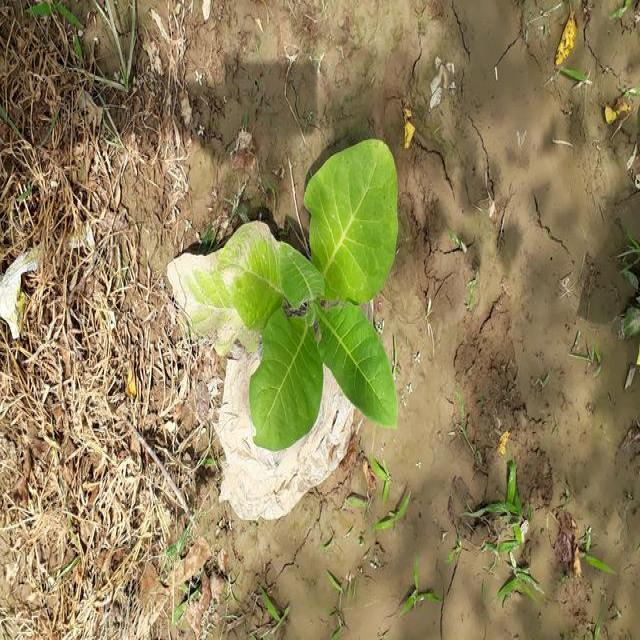crop: (166, 147, 397, 448)
